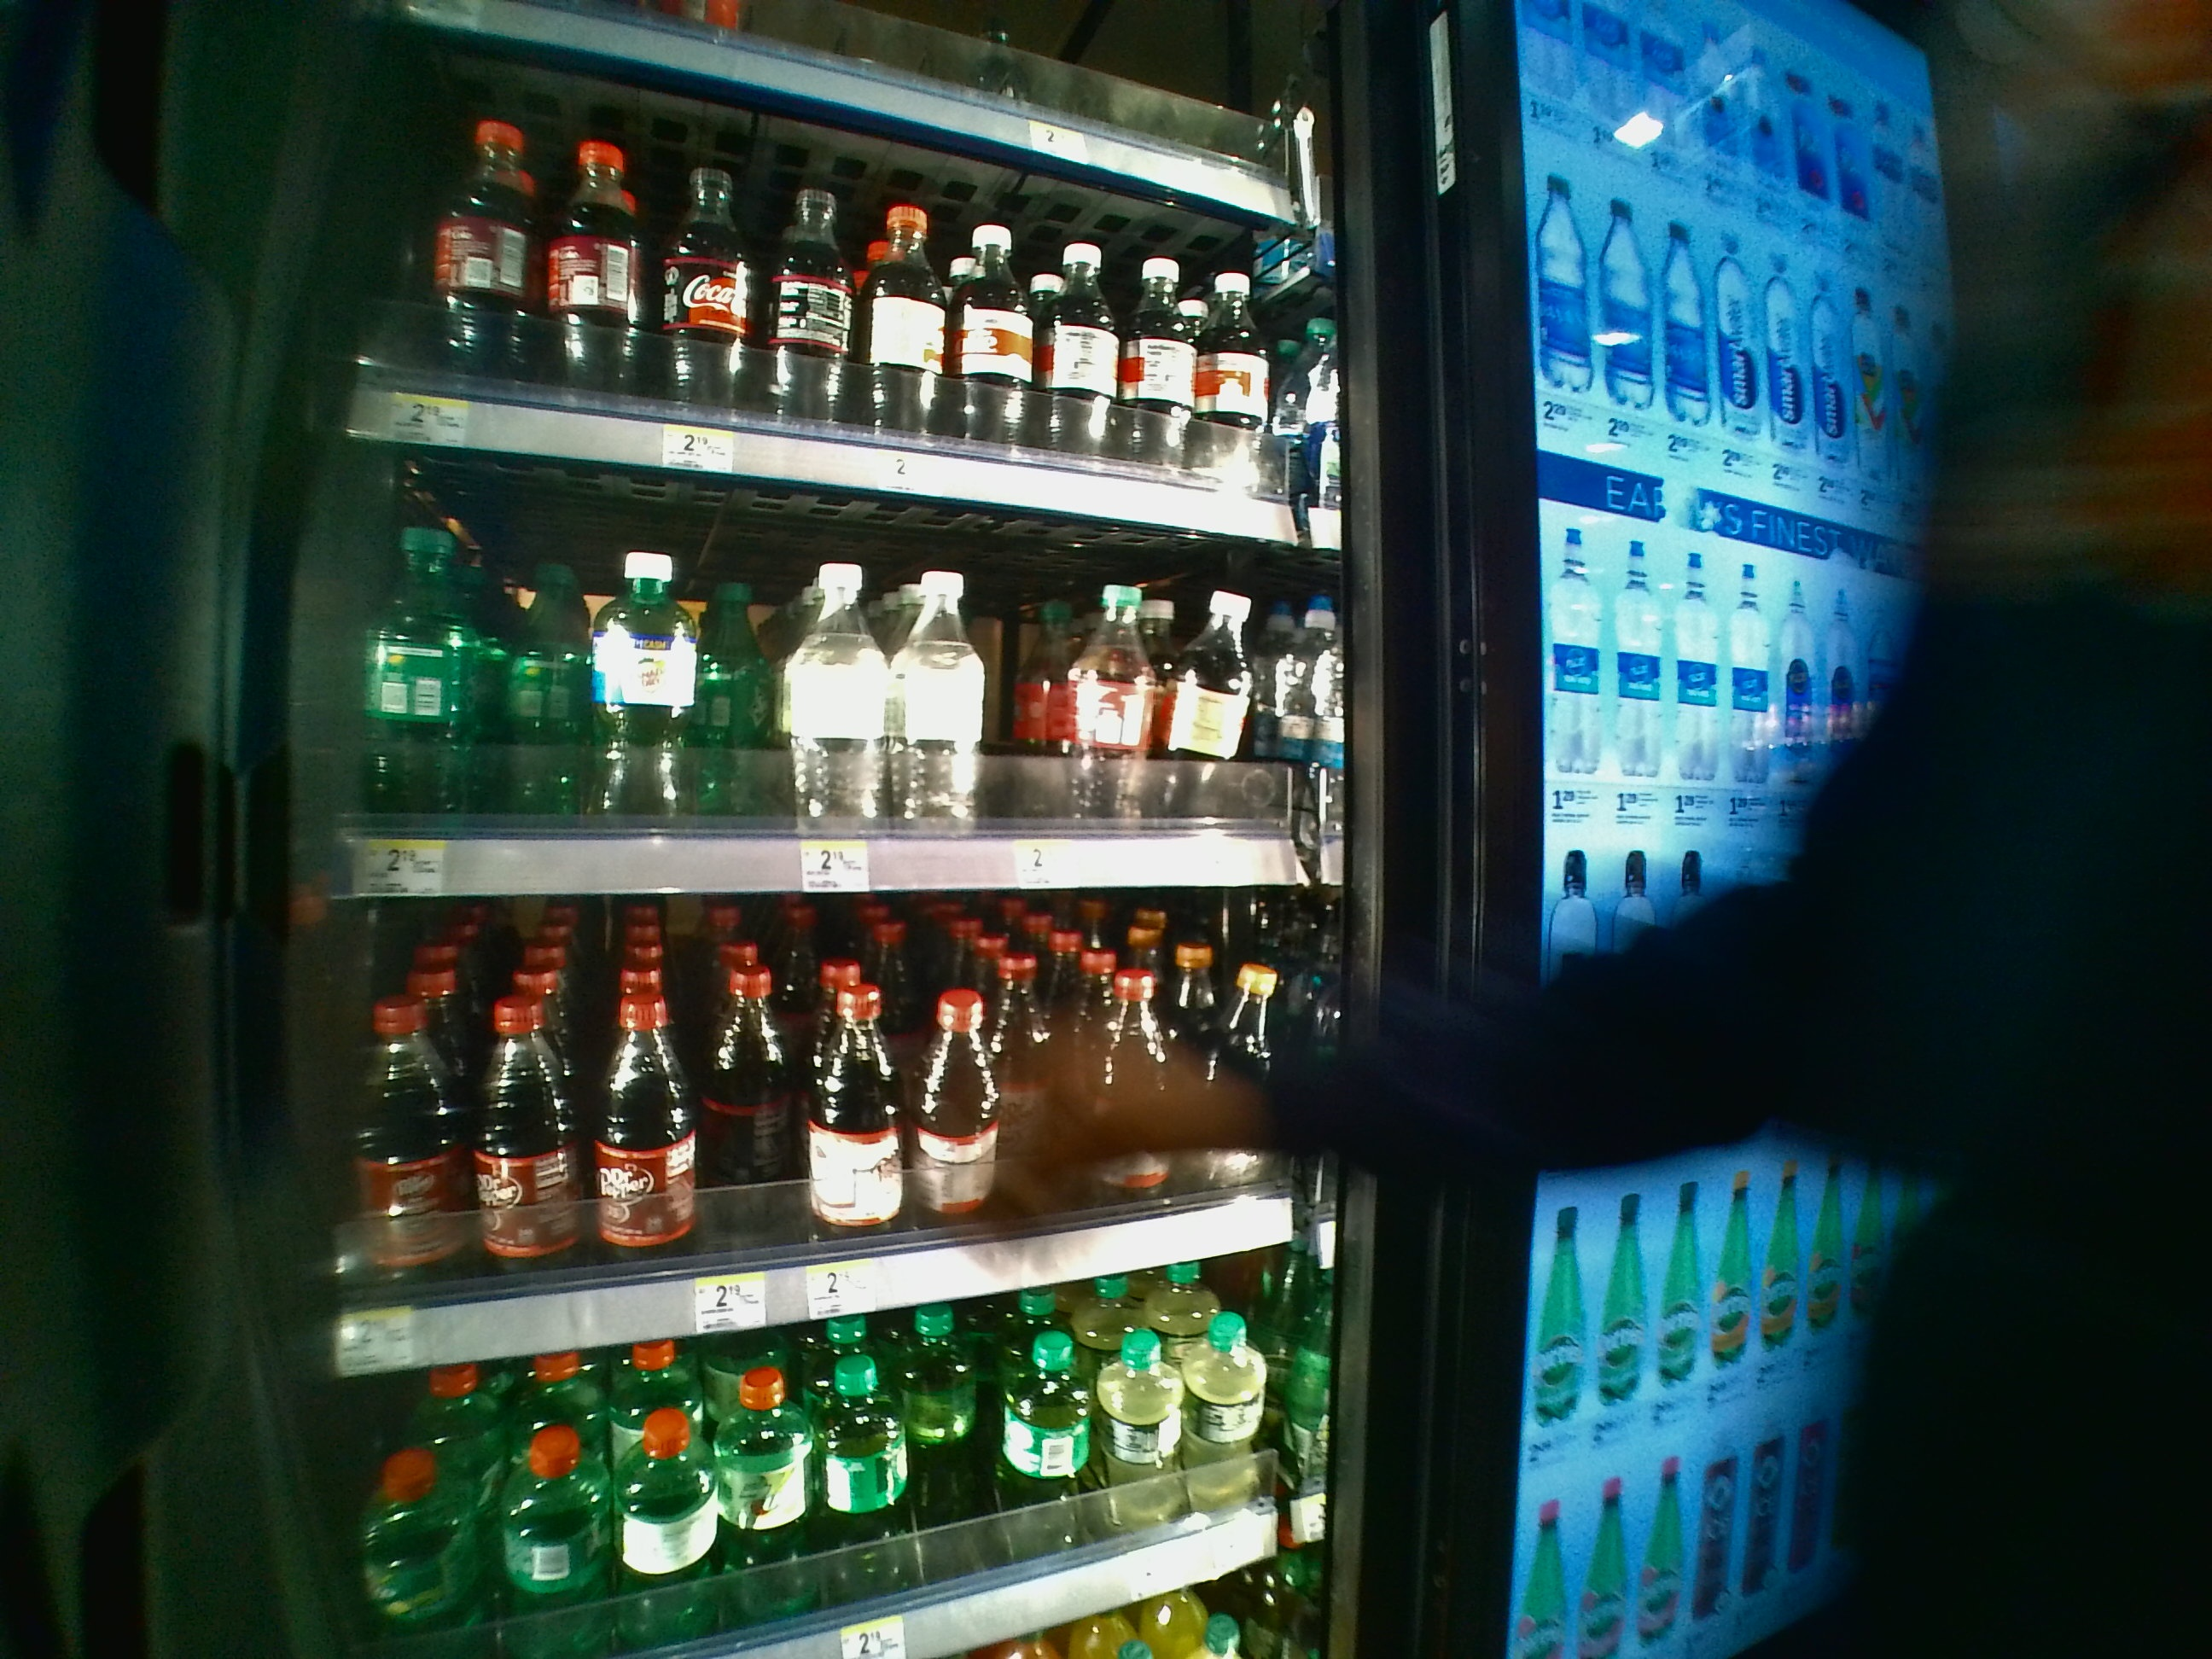shelf: (329, 437, 1331, 892)
